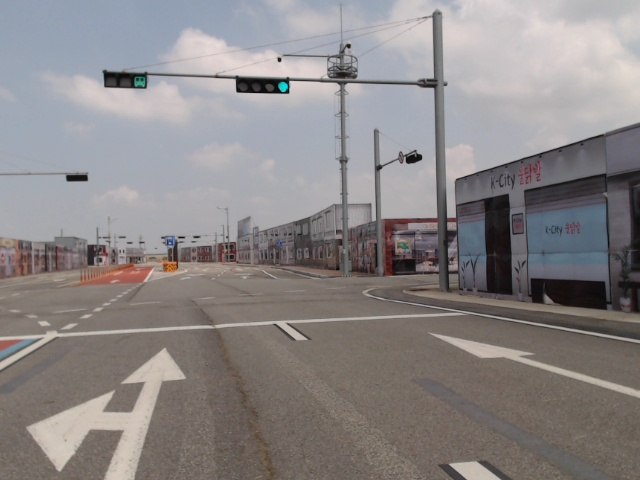straight_green_4: (236, 77, 291, 94)
